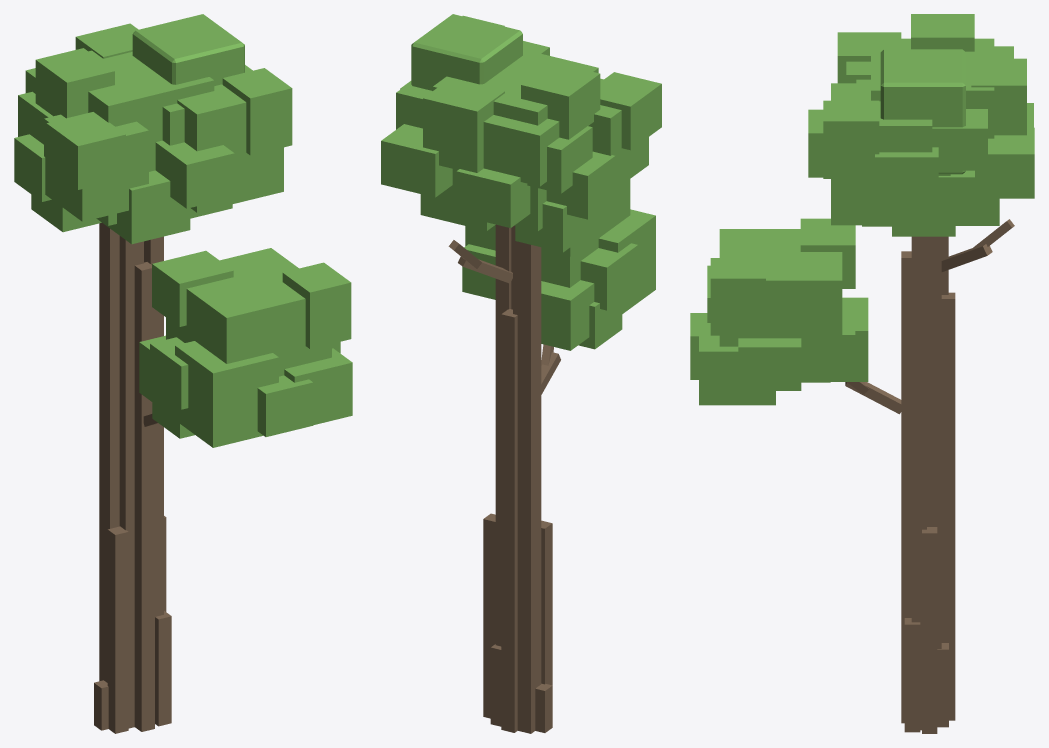
The model's file is SM_Tree_01_C.fbx.
3 views of the same model, side by side, from view 1: azimuth 30°, elevation 25°; view 2: azimuth 150°, elevation 25°; view 3: azimuth 270°, elevation 25° (orthographic).
Parts seen in each view (by area): view 1: pCube364; view 2: pCube364; view 3: pCube364.
Part boxes in pixels (box(x1,y1,x2,y2)): pCube364: box(14, 14, 352, 733); pCube364: box(381, 14, 661, 733); pCube364: box(690, 14, 1034, 733).
Bounding box in the file's own units: 131 × 396 × 182.
